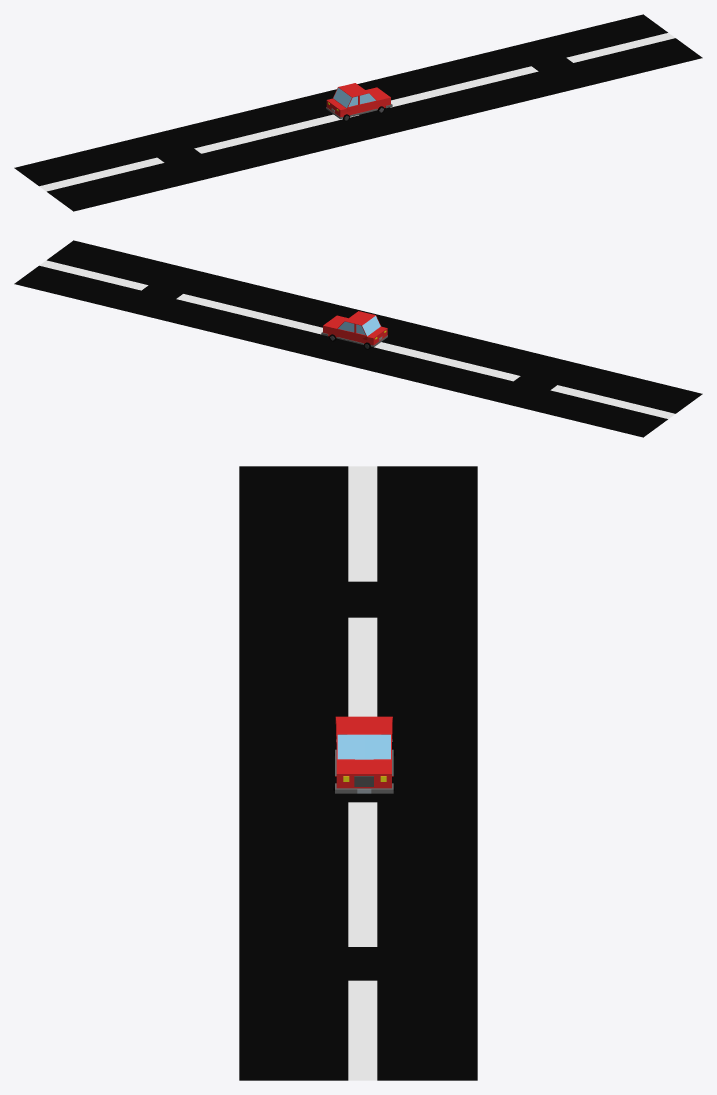
The picture shows the model from 3 angles, top to bottom: view 1: azimuth 30°, elevation 25°; view 2: azimuth 150°, elevation 25°; view 3: azimuth 270°, elevation 25°; orthographic projection. The views are drawn at different scales.
Visible parts, largest first — view 1: Plane.001, Cube; view 2: Plane.001, Cube; view 3: Plane.001, Cube.
Boxes of the visible parts, bbox=[...] form: Plane.001: bbox=[14, 14, 702, 211]; Cube: bbox=[326, 83, 392, 119]; Plane.001: bbox=[14, 240, 702, 437]; Cube: bbox=[321, 311, 387, 347]; Plane.001: bbox=[239, 466, 477, 1080]; Cube: bbox=[335, 716, 393, 793].
Bounding box in the file's own units: 30000 × 1035 × 4924.
